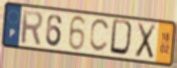6: (67, 14, 88, 52), (45, 13, 63, 48)
C: (88, 19, 111, 55)
D: (108, 18, 136, 58)
R: (20, 8, 44, 47)
X: (134, 21, 158, 60)
